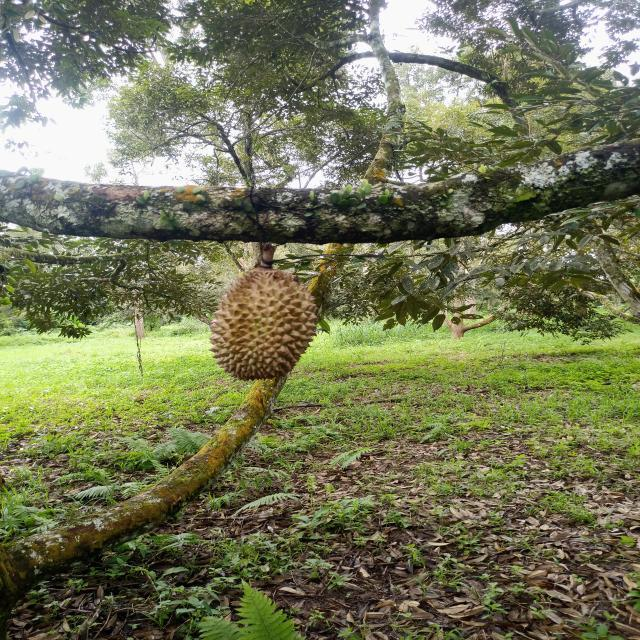mature: (209, 269, 319, 382)
